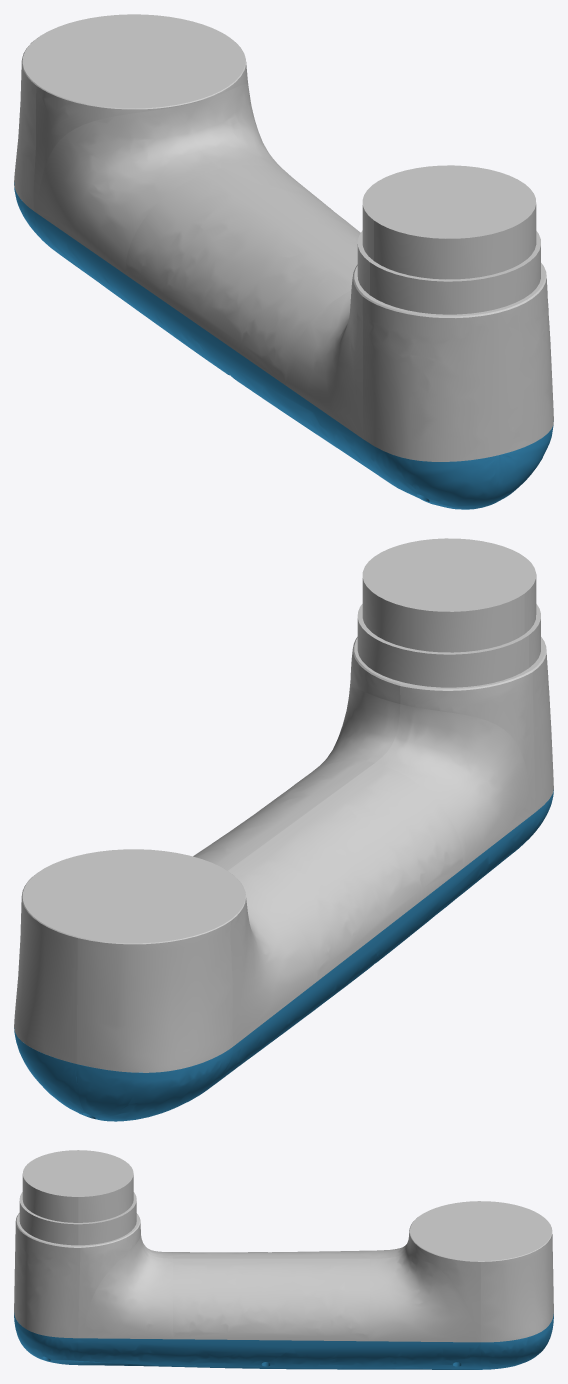
The model's file is NOVA2_J3.gltf.
The picture shows the model from 3 angles, top to bottom: view 1: azimuth 30°, elevation 25°; view 2: azimuth 150°, elevation 25°; view 3: azimuth 270°, elevation 25°; orthographic projection. The views are drawn at different scales.
Parts seen in each view (by area): view 1: J3-PART2, J3-PART1; view 2: J3-PART2, J3-PART1; view 3: J3-PART2, J3-PART1.
Boxes of the visible parts, x1=… form: J3-PART2: x1=14, y1=14, x2=553, y2=461; J3-PART1: x1=14, y1=182, x2=553, y2=509; J3-PART2: x1=14, y1=538, x2=553, y2=1072; J3-PART1: x1=14, y1=790, x2=553, y2=1121; J3-PART2: x1=14, y1=1150, x2=553, y2=1342; J3-PART1: x1=14, y1=1313, x2=553, y2=1369.
Bounding box in the file's own units: 0.082 × 0.1172 × 0.3017.
